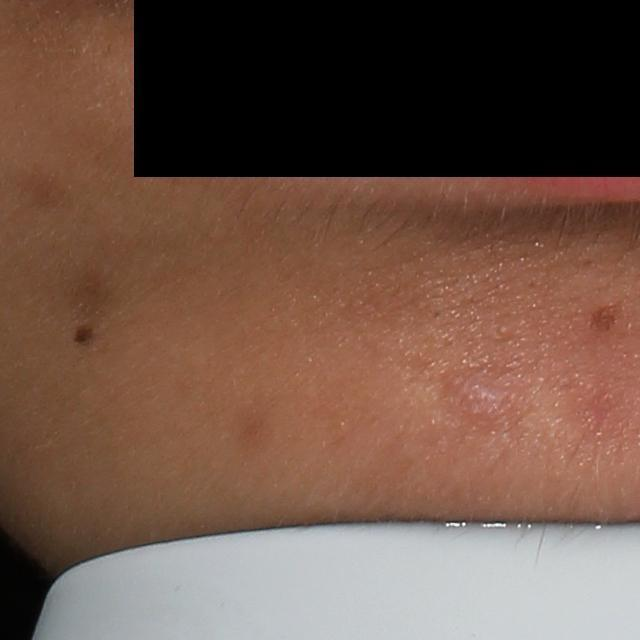nevus: (585, 302, 619, 334), (70, 324, 96, 344)
papule: (446, 372, 505, 429)
